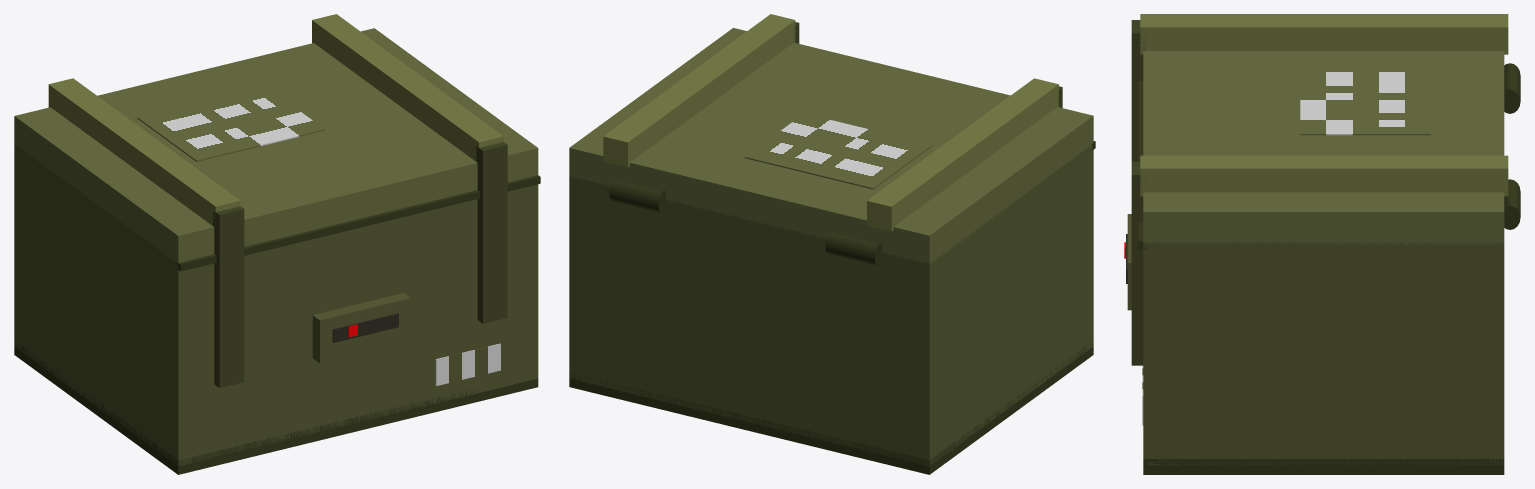
File: CMU3DInheritedCratesSecureAmmoCloud.glb
3 views of the same model, side by side, from view 1: azimuth 30°, elevation 25°; view 2: azimuth 150°, elevation 25°; view 3: azimuth 270°, elevation 25° (orthographic). The views are drawn at different scales.
Visible parts, largest first — view 1: front structural wall, separate solid closed lid, side structural wall -1, olive lid retaining strap -0.32, olive lid retaining strap 0.32, original ammunition lid identifier, bottom structural pan, olive front strap return -0.32, olive front strap return 0.32, inset lock housing, front lid gasket, side structural wall 1 (+3 smaller); view 2: rear structural wall, separate solid closed lid, side structural wall -1, olive lid retaining strap 0.32, olive lid retaining strap -0.32, original ammunition lid identifier, bottom structural pan, front structural wall, rear lid hinge -0.2625, rear lid hinge 0.2625, side structural wall 1; view 3: side structural wall 1, separate solid closed lid, olive lid retaining strap 0.32, olive lid retaining strap -0.32, original ammunition lid identifier, bottom structural pan, front structural wall, rear structural wall, olive front strap return 0.32, olive front strap return -0.32, rear lid hinge -0.2625, rear lid hinge 0.2625 (+2 smaller).
Part boxes in pixels (x1,y1,x2,y2): front structural wall: (171, 184, 538, 465); separate solid closed lid: (14, 28, 538, 263); side structural wall -1: (14, 144, 191, 465); olive lid retaining strap -0.32: (48, 78, 240, 228); olive lid retaining strap 0.32: (312, 14, 503, 161); original ammunition lid identifier: (137, 86, 324, 161); bottom structural pan: (14, 341, 538, 474); olive front strap return -0.32: (213, 206, 244, 387); olive front strap return 0.32: (476, 142, 507, 323); inset lock housing: (312, 293, 411, 363); front lid gasket: (176, 175, 540, 271); side structural wall 1: (525, 184, 538, 381); rear structural wall: (569, 176, 936, 466); separate solid closed lid: (569, 28, 1093, 265); side structural wall -1: (916, 149, 1093, 465); olive lid retaining strap 0.32: (603, 14, 795, 167); olive lid retaining strap -0.32: (867, 78, 1058, 231); original ammunition lid identifier: (744, 113, 932, 189); bottom structural pan: (569, 341, 1093, 474); front structural wall: (1086, 145, 1093, 351); rear lid hinge -0.2625: (825, 231, 882, 266); rear lid hinge 0.2625: (609, 178, 665, 213); side structural wall 1: (569, 176, 582, 377); side structural wall 1: (1143, 242, 1504, 465); separate solid closed lid: (1143, 51, 1504, 244); olive lid retaining strap 0.32: (1140, 155, 1508, 196); olive lid retaining strap -0.32: (1140, 14, 1508, 54); original ammunition lid identifier: (1300, 65, 1430, 135); bottom structural pan: (1143, 459, 1504, 474); front structural wall: (1143, 242, 1159, 465); rear structural wall: (1488, 242, 1504, 465); olive front strap return 0.32: (1131, 161, 1145, 365); olive front strap return -0.32: (1131, 20, 1146, 161); rear lid hinge -0.2625: (1504, 63, 1520, 113); rear lid hinge 0.2625: (1504, 179, 1520, 229).
Size of the model in its own units: 0.875 by 0.605 by 0.757.
9 materials, 2 textured.
